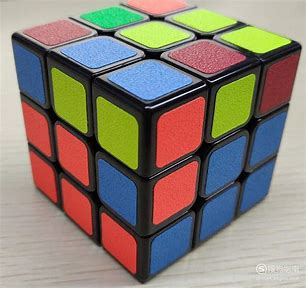cube: (4, 1, 302, 284)
